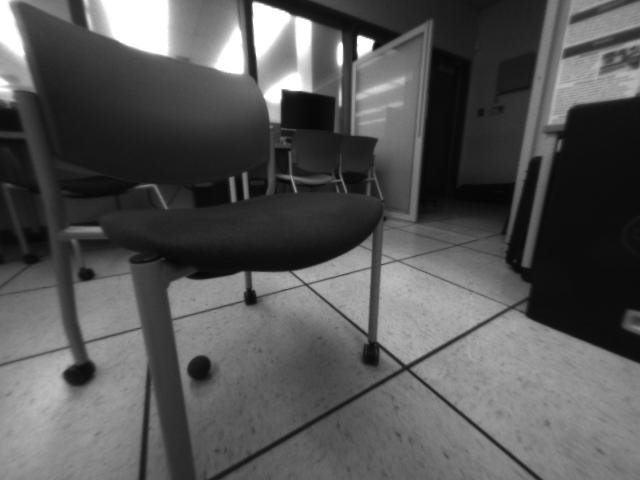dogtoy: (183, 347, 222, 385)
